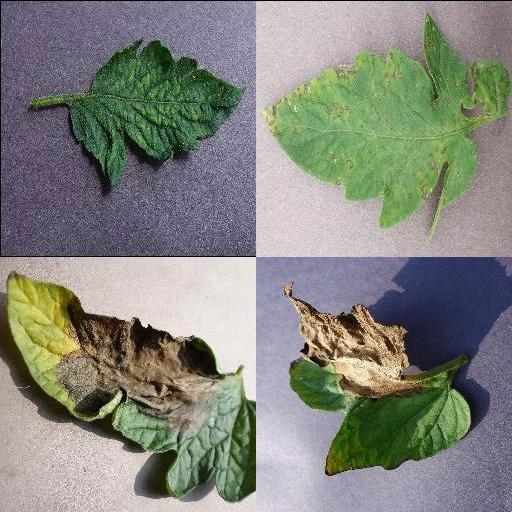Late Blight: (3, 269, 256, 502), (285, 280, 473, 478)
Mosaic Virus: (68, 37, 248, 189)
Septoria: (265, 14, 479, 241)
